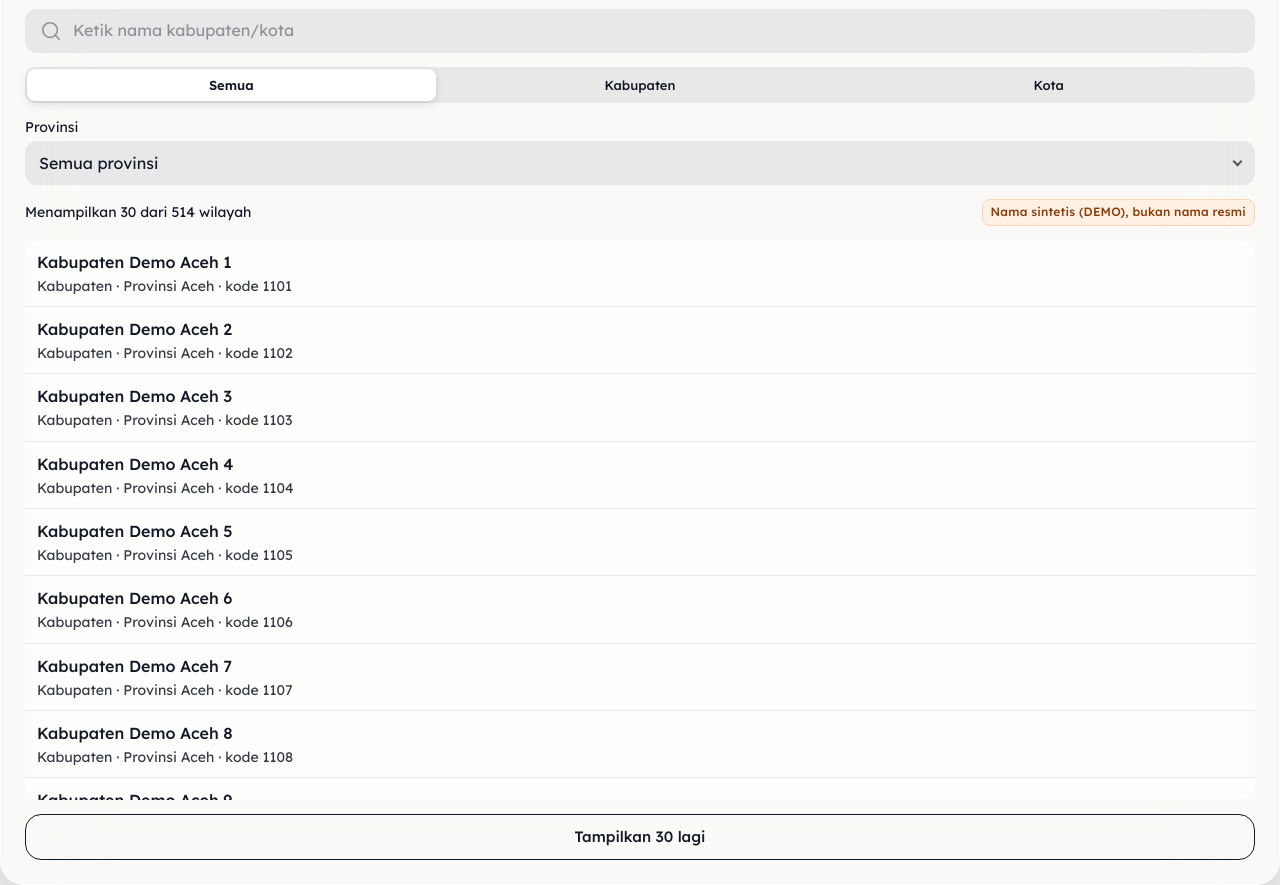
Test: RegionExplorer against the captured Data Hub responses › lists the 514 DEMO regions a page at a time and labels the names as synthetic
The width and height of the screenshot is (1280, 885).
(page scrolled)
Expected: the text "Menampilkan 30 dari 514 wilayah" is shown, [25, 202, 251, 223]
Expected: the button "Kabupaten Demo Aceh 1 Kabupaten · Provinsi Aceh · kode 1101" is shown, [25, 240, 1255, 306]
Click the button "Tampilkan 30 lagi": [640, 837] box [25, 814, 1255, 860]
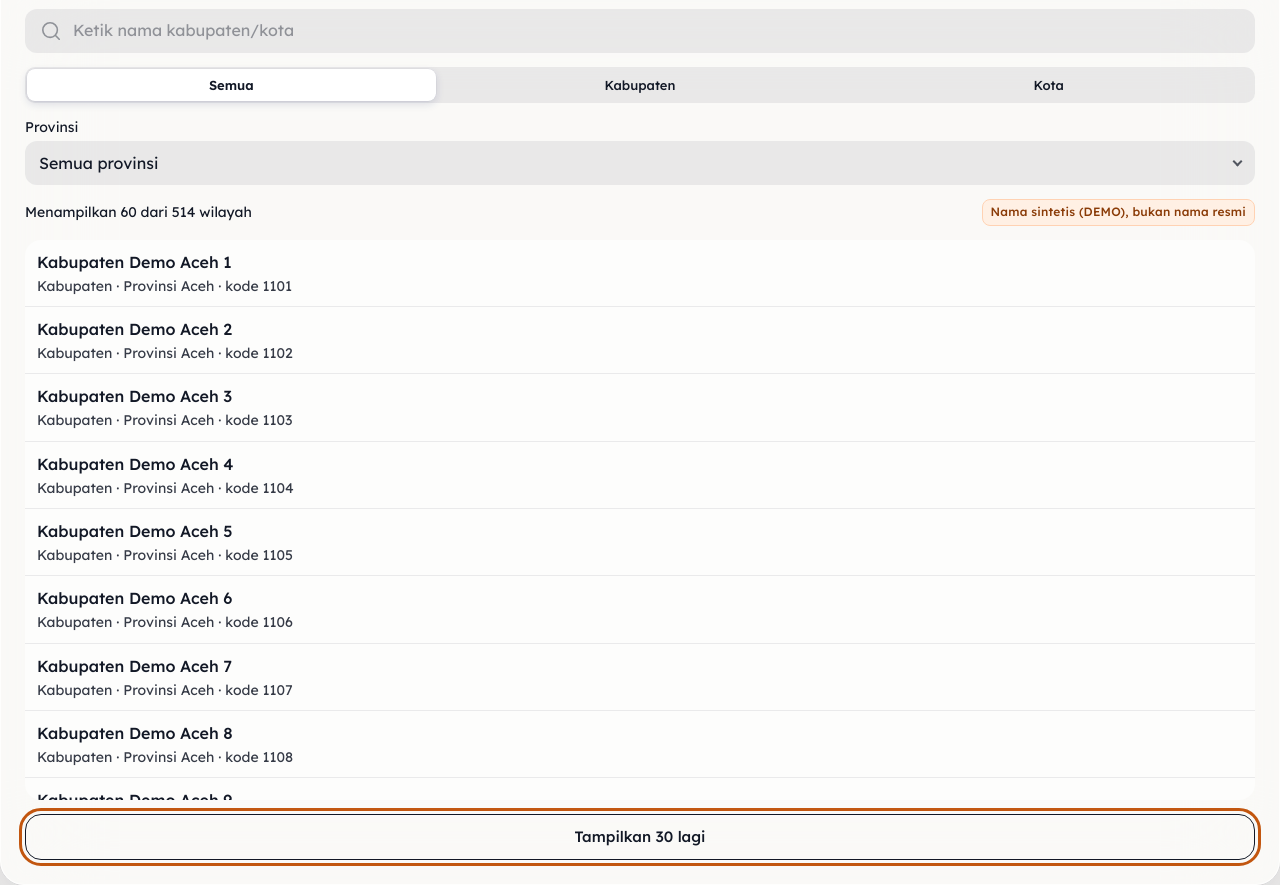
Expected: the text "Menampilkan 60 dari 514 wilayah" is shown, [25, 202, 252, 223]
